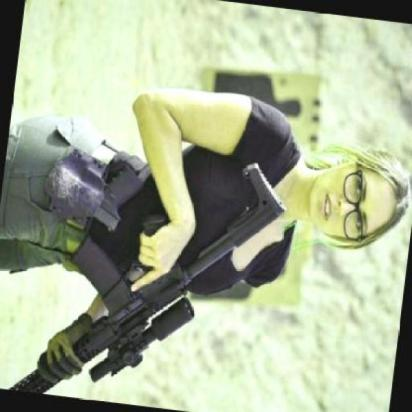Gun: (2, 156, 286, 412)
